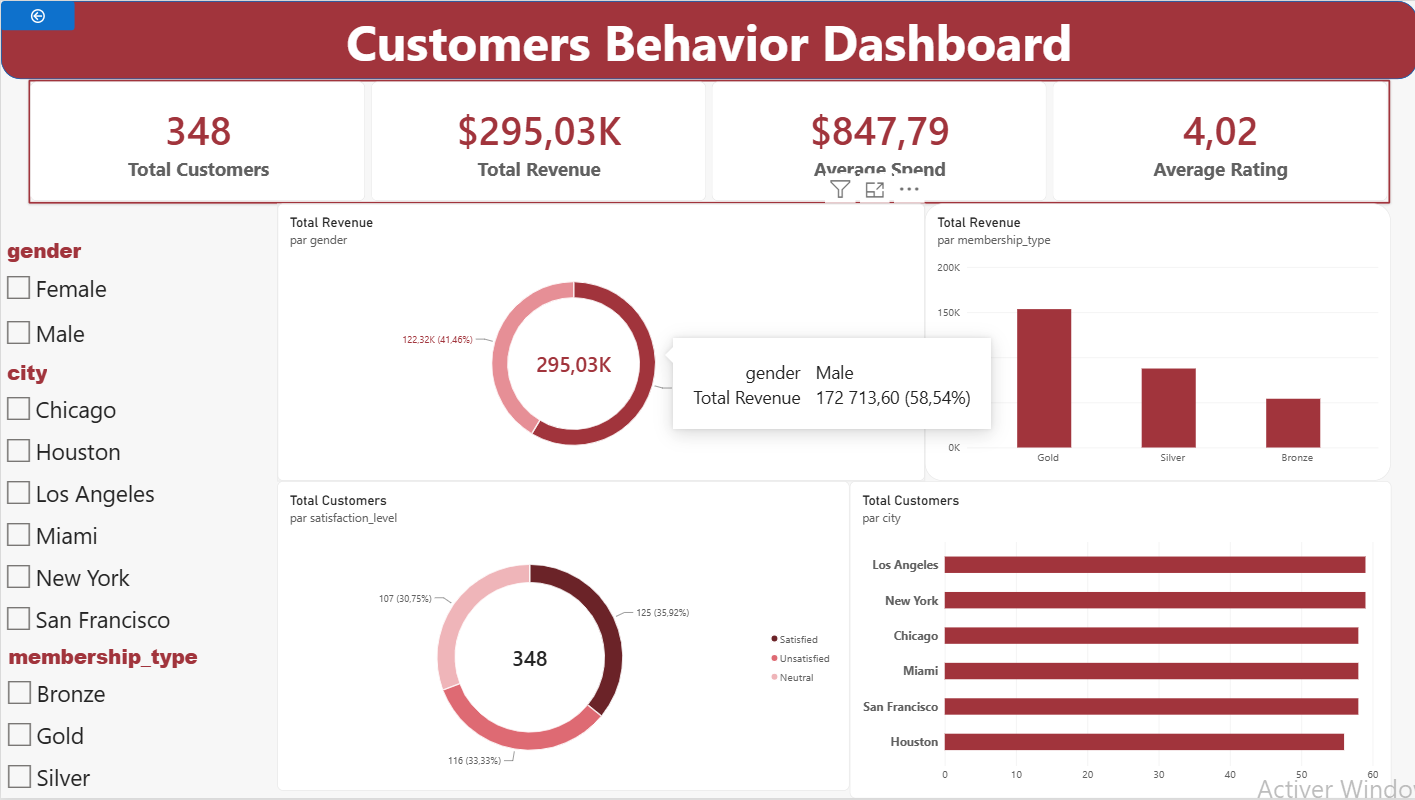

Layout of this report page (visuals, bound fields, positions):
{"tool":"powerbi","page":{"name":"Page 1","canvas":[1920,1080],"ordinal":0},"visuals":[{"type":"cardVisual","fields":{"Data":["public customer.Total Customers","public customer.Total Revenue","public customer.Average Spend","public customer.Average Rating"]},"box":[38,106,1846.4,168],"z":0},{"type":"shape","box":[0,0,1920.4,106],"z":1000},{"type":"barChart","fields":{"Category":["public customer.city"],"Y":["public customer.Total Customers"]},"box":[1150.2,650.1,734.2,430.1],"z":2000},{"type":"columnChart","fields":{"Category":["public customer.membership_type"],"Y":["public customer.Total Revenue"]},"box":[1252.3,274.1,632.1,376.1],"z":3000},{"type":"donutChart","fields":{"Category":["public customer.gender"],"Y":["public customer.Total Revenue"]},"box":[374.1,274.1,878.2,376.1],"z":4000},{"type":"donutChart","fields":{"Category":["public customer.satisfaction_level"],"Y":["public customer.Total Customers"]},"box":[374.1,650.1,776.2,420.1],"z":5000},{"type":"slicer","fields":{"Values":["public customer.gender"]},"box":[0,318.1,374.1,166],"z":6000},{"type":"actionButton","box":[0,0,100,40],"z":7000},{"type":"slicer","fields":{"Values":["public customer.city"]},"box":[0,484.1,374.1,386.1],"z":8000},{"type":"slicer","fields":{"Values":["public customer.membership_type"]},"box":[2,870.2,372.1,210],"z":8001}]}

Visuals, with their boxes on the page's 1920x1080 design canvas (x1, y1, x2, y2). These are canvas units, not pixel positions in the 1415x800 screenshot, which may show the page scaled, cropped or inside an application window:
cardVisual - public customer.Total Customers x public customer.Total Revenue: Rect(38, 106, 1884, 274)
shape: Rect(0, 0, 1920, 106)
barChart - public customer.city x public customer.Total Customers: Rect(1150, 650, 1884, 1080)
columnChart - public customer.membership_type x public customer.Total Revenue: Rect(1252, 274, 1884, 650)
donutChart - public customer.gender x public customer.Total Revenue: Rect(374, 274, 1252, 650)
donutChart - public customer.satisfaction_level x public customer.Total Customers: Rect(374, 650, 1150, 1070)
slicer - public customer.gender: Rect(0, 318, 374, 484)
actionButton: Rect(0, 0, 100, 40)
slicer - public customer.city: Rect(0, 484, 374, 870)
slicer - public customer.membership_type: Rect(2, 870, 374, 1080)
